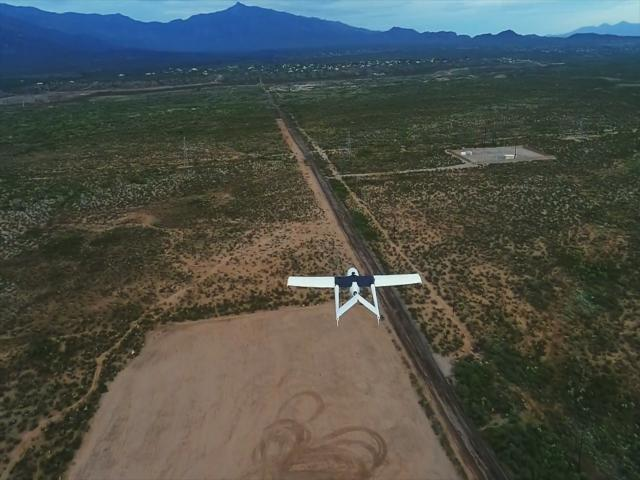plane: (286, 267, 424, 326)
